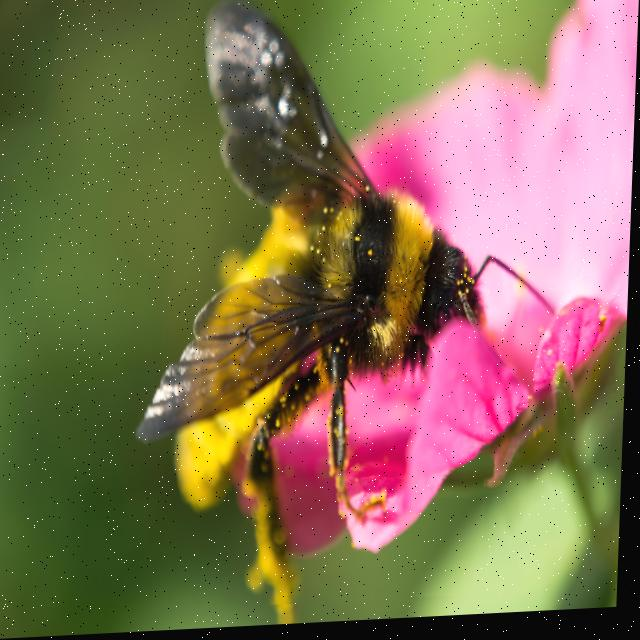Apis-mellifera-scutellata: (157, 0, 505, 613)
